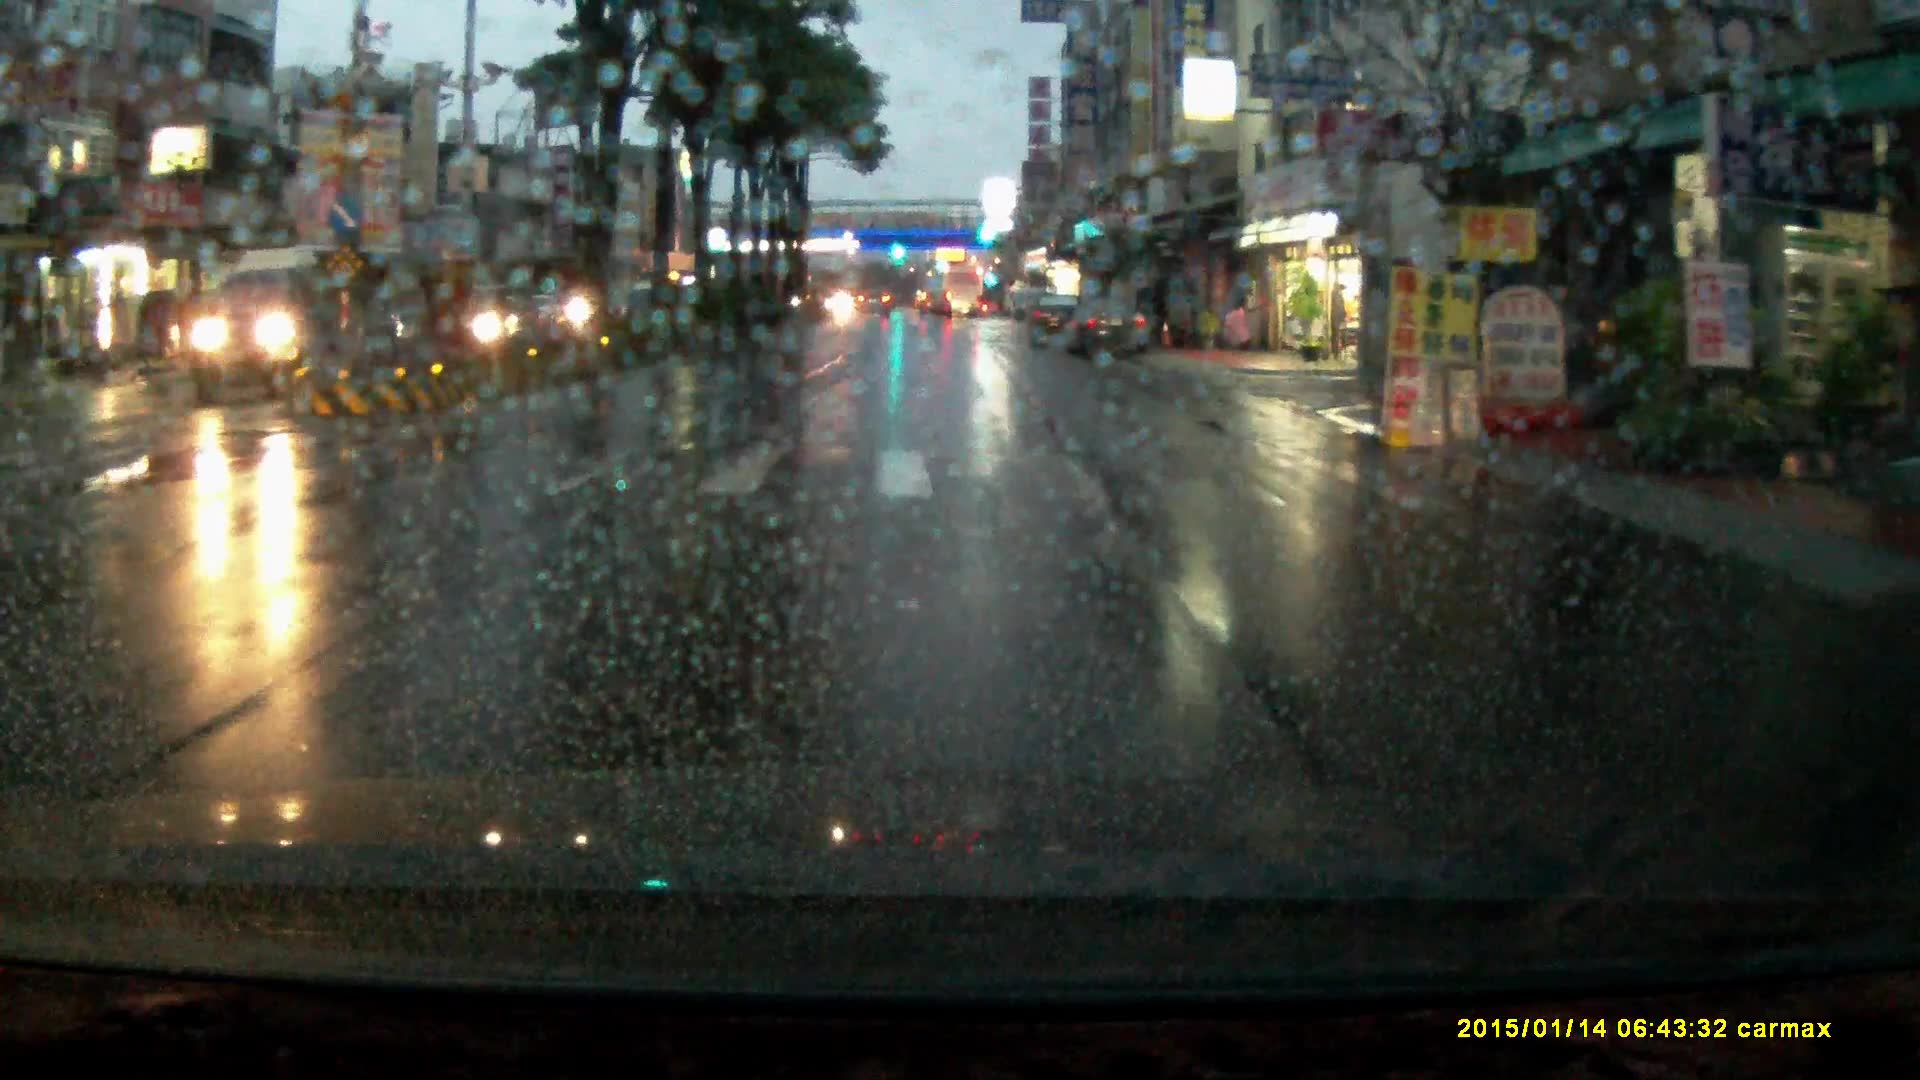vehicle: (185, 244, 415, 404), (413, 286, 543, 356), (1062, 294, 1153, 361), (1026, 291, 1083, 344), (940, 269, 984, 324), (920, 284, 955, 322), (856, 287, 893, 319)
